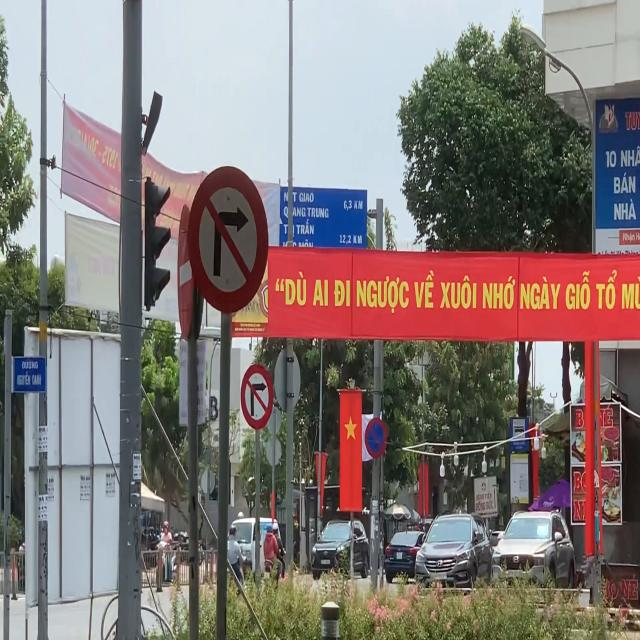Cam do: (365, 416, 387, 460)
Cam nguoc chieu: (178, 200, 192, 343)
Cam re phai: (188, 163, 271, 315), (242, 363, 273, 430)
